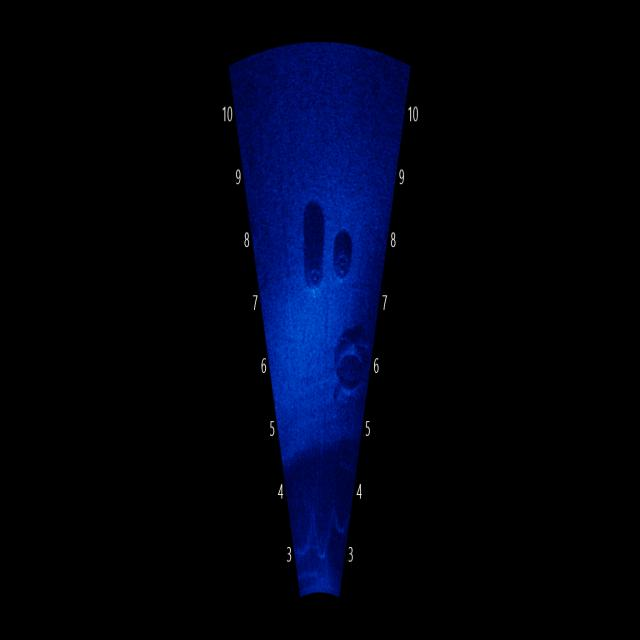circle: (332, 332, 376, 412), (327, 232, 368, 287), (299, 242, 330, 302)
